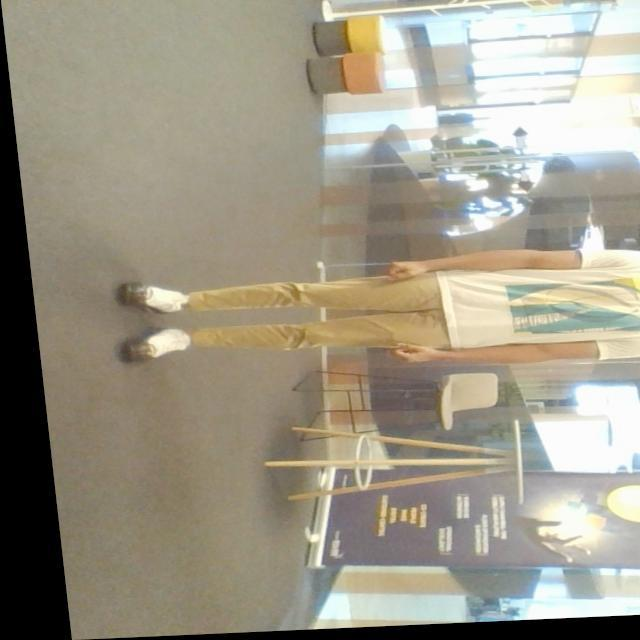shoes: (114, 276, 188, 318), (112, 327, 196, 363)
